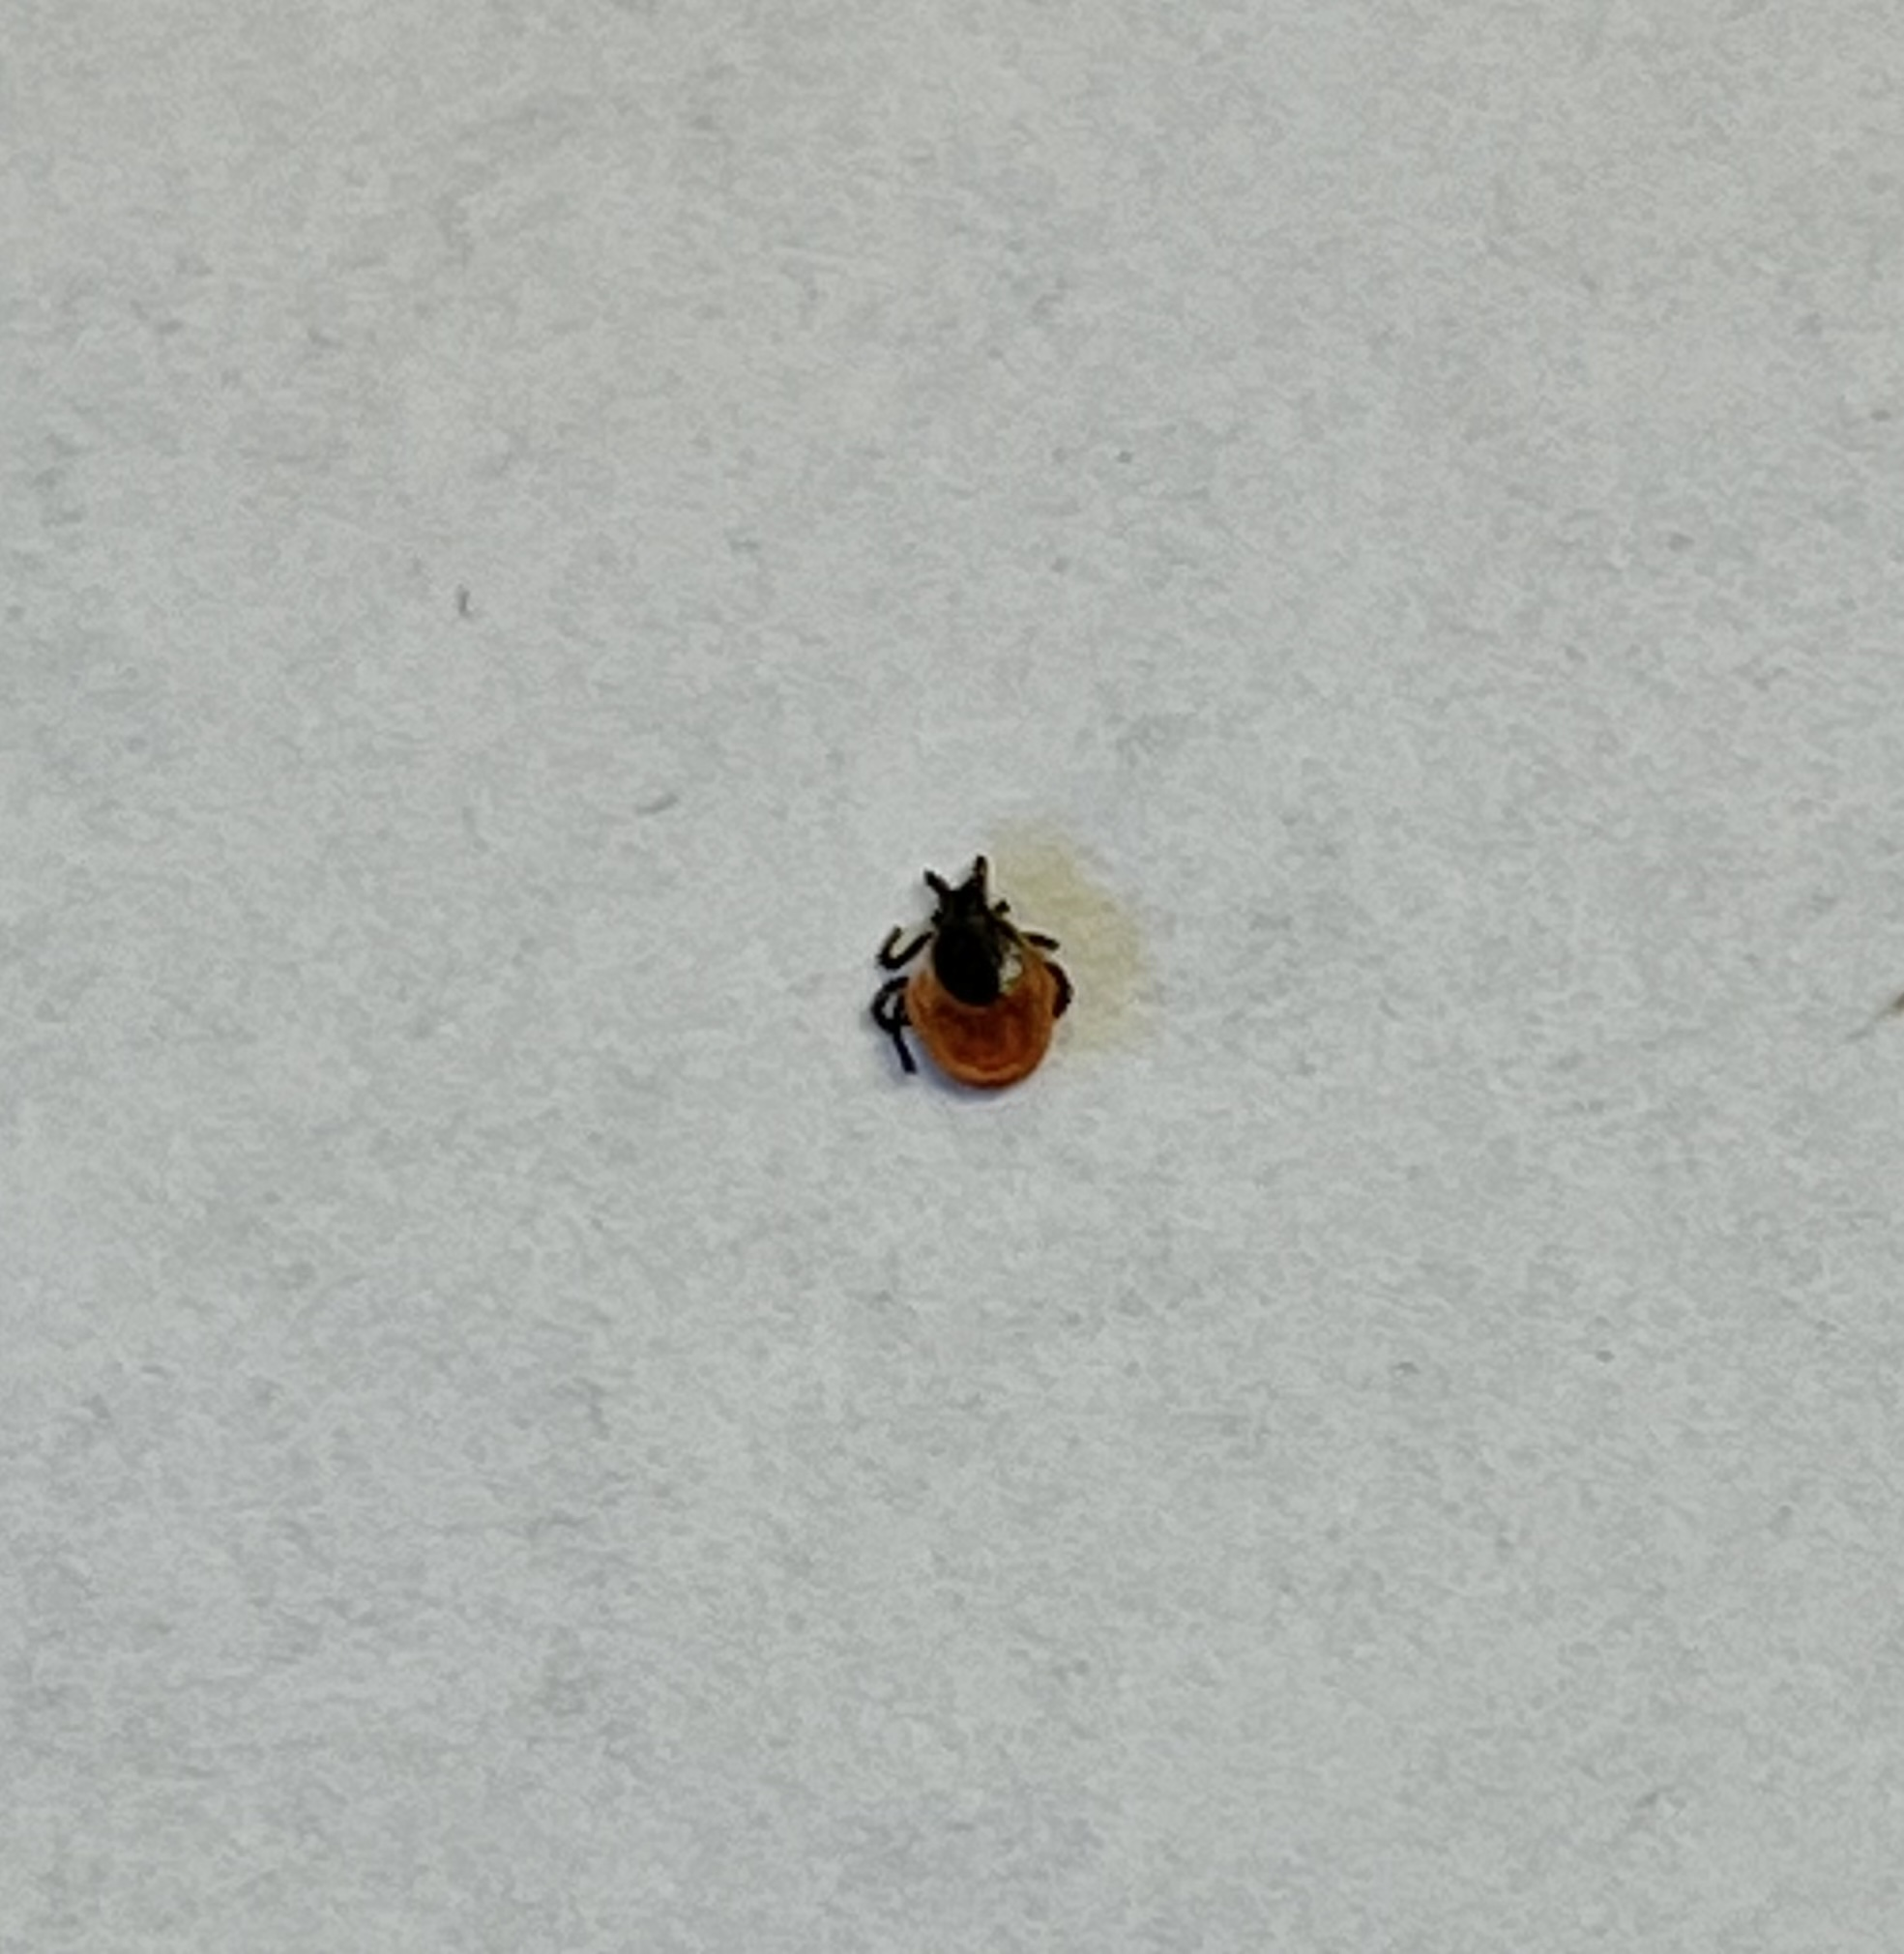unlabelled_tick: (843, 827, 1091, 1099)
